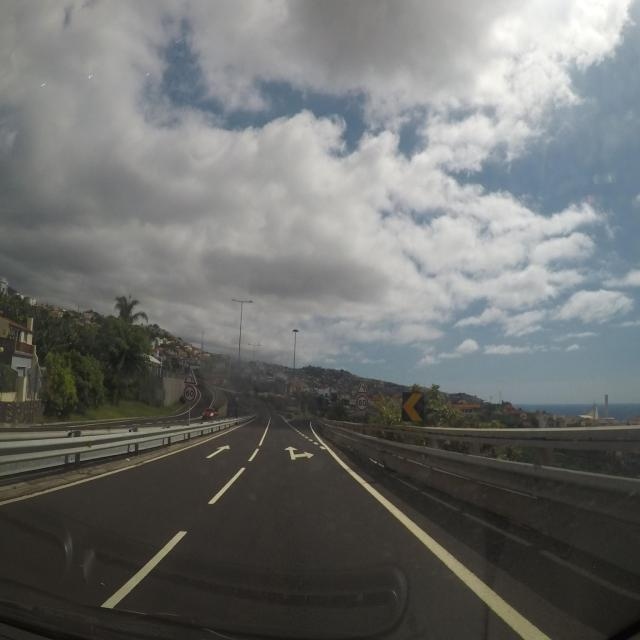car: (202, 407, 218, 420)
